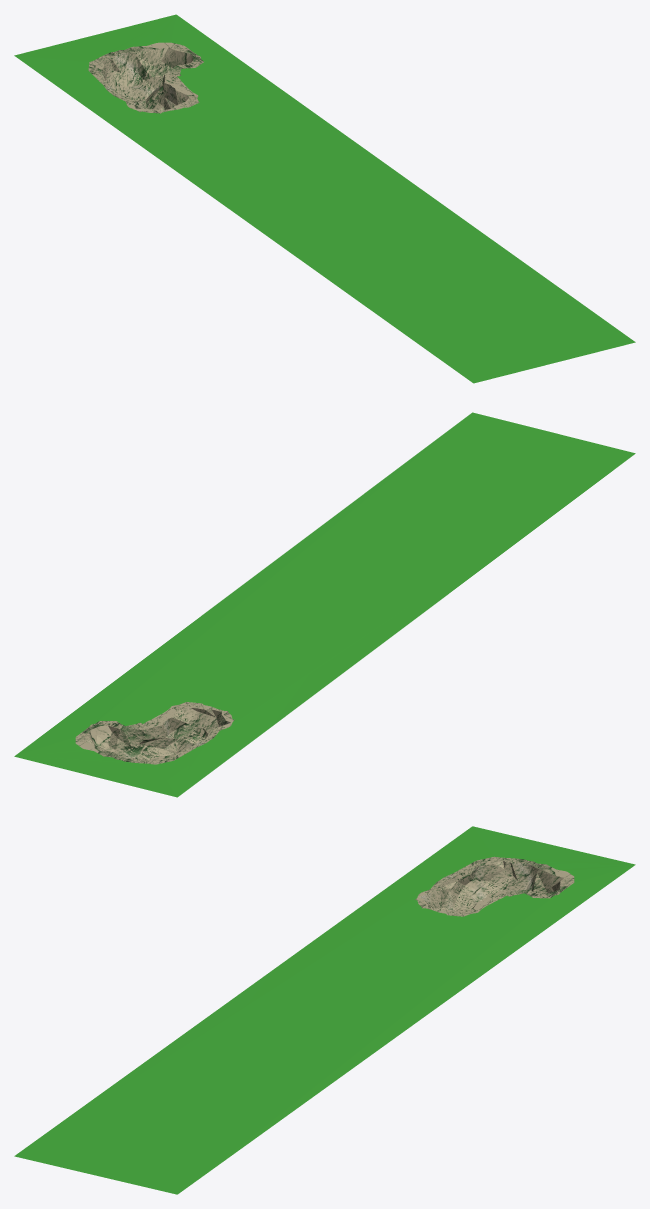
File: m_groundPond.fbx
3 renders of one model, top to bottom at view 1: azimuth 30°, elevation 25°; view 2: azimuth 150°, elevation 25°; view 3: azimuth 330°, elevation 25°, orthographic.
Parts seen in each view (by area): view 1: polySurface795; view 2: polySurface795; view 3: polySurface795.
Part boxes in pixels (bbox=[...]): polySurface795: bbox=[14, 14, 635, 383]; polySurface795: bbox=[14, 412, 635, 797]; polySurface795: bbox=[14, 826, 635, 1194].
Bounding box in the file's own units: 1014 × 238 × 4903.
